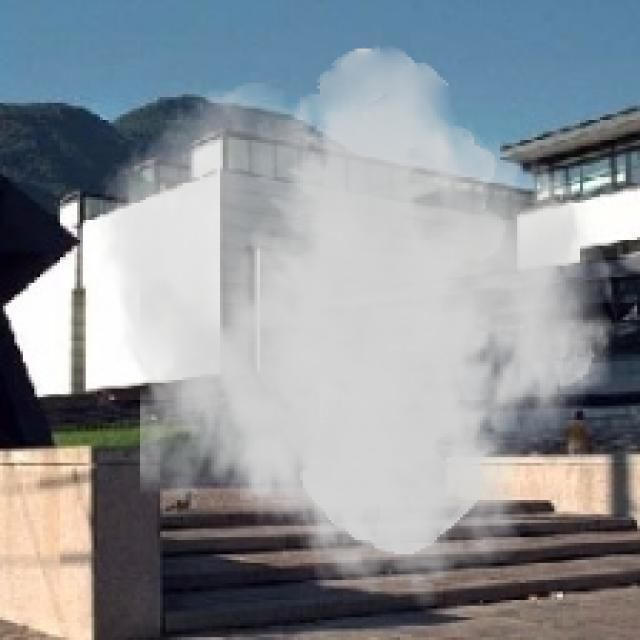Smoke: (94, 46, 620, 612)
